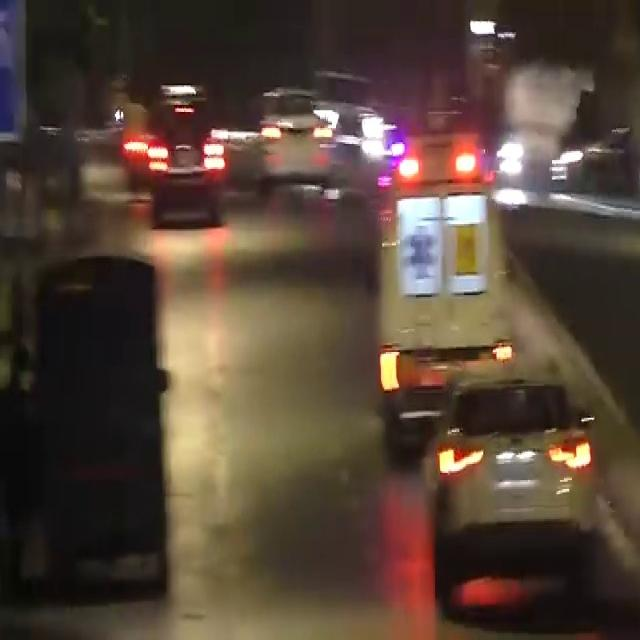ambulance: (385, 119, 504, 421)
